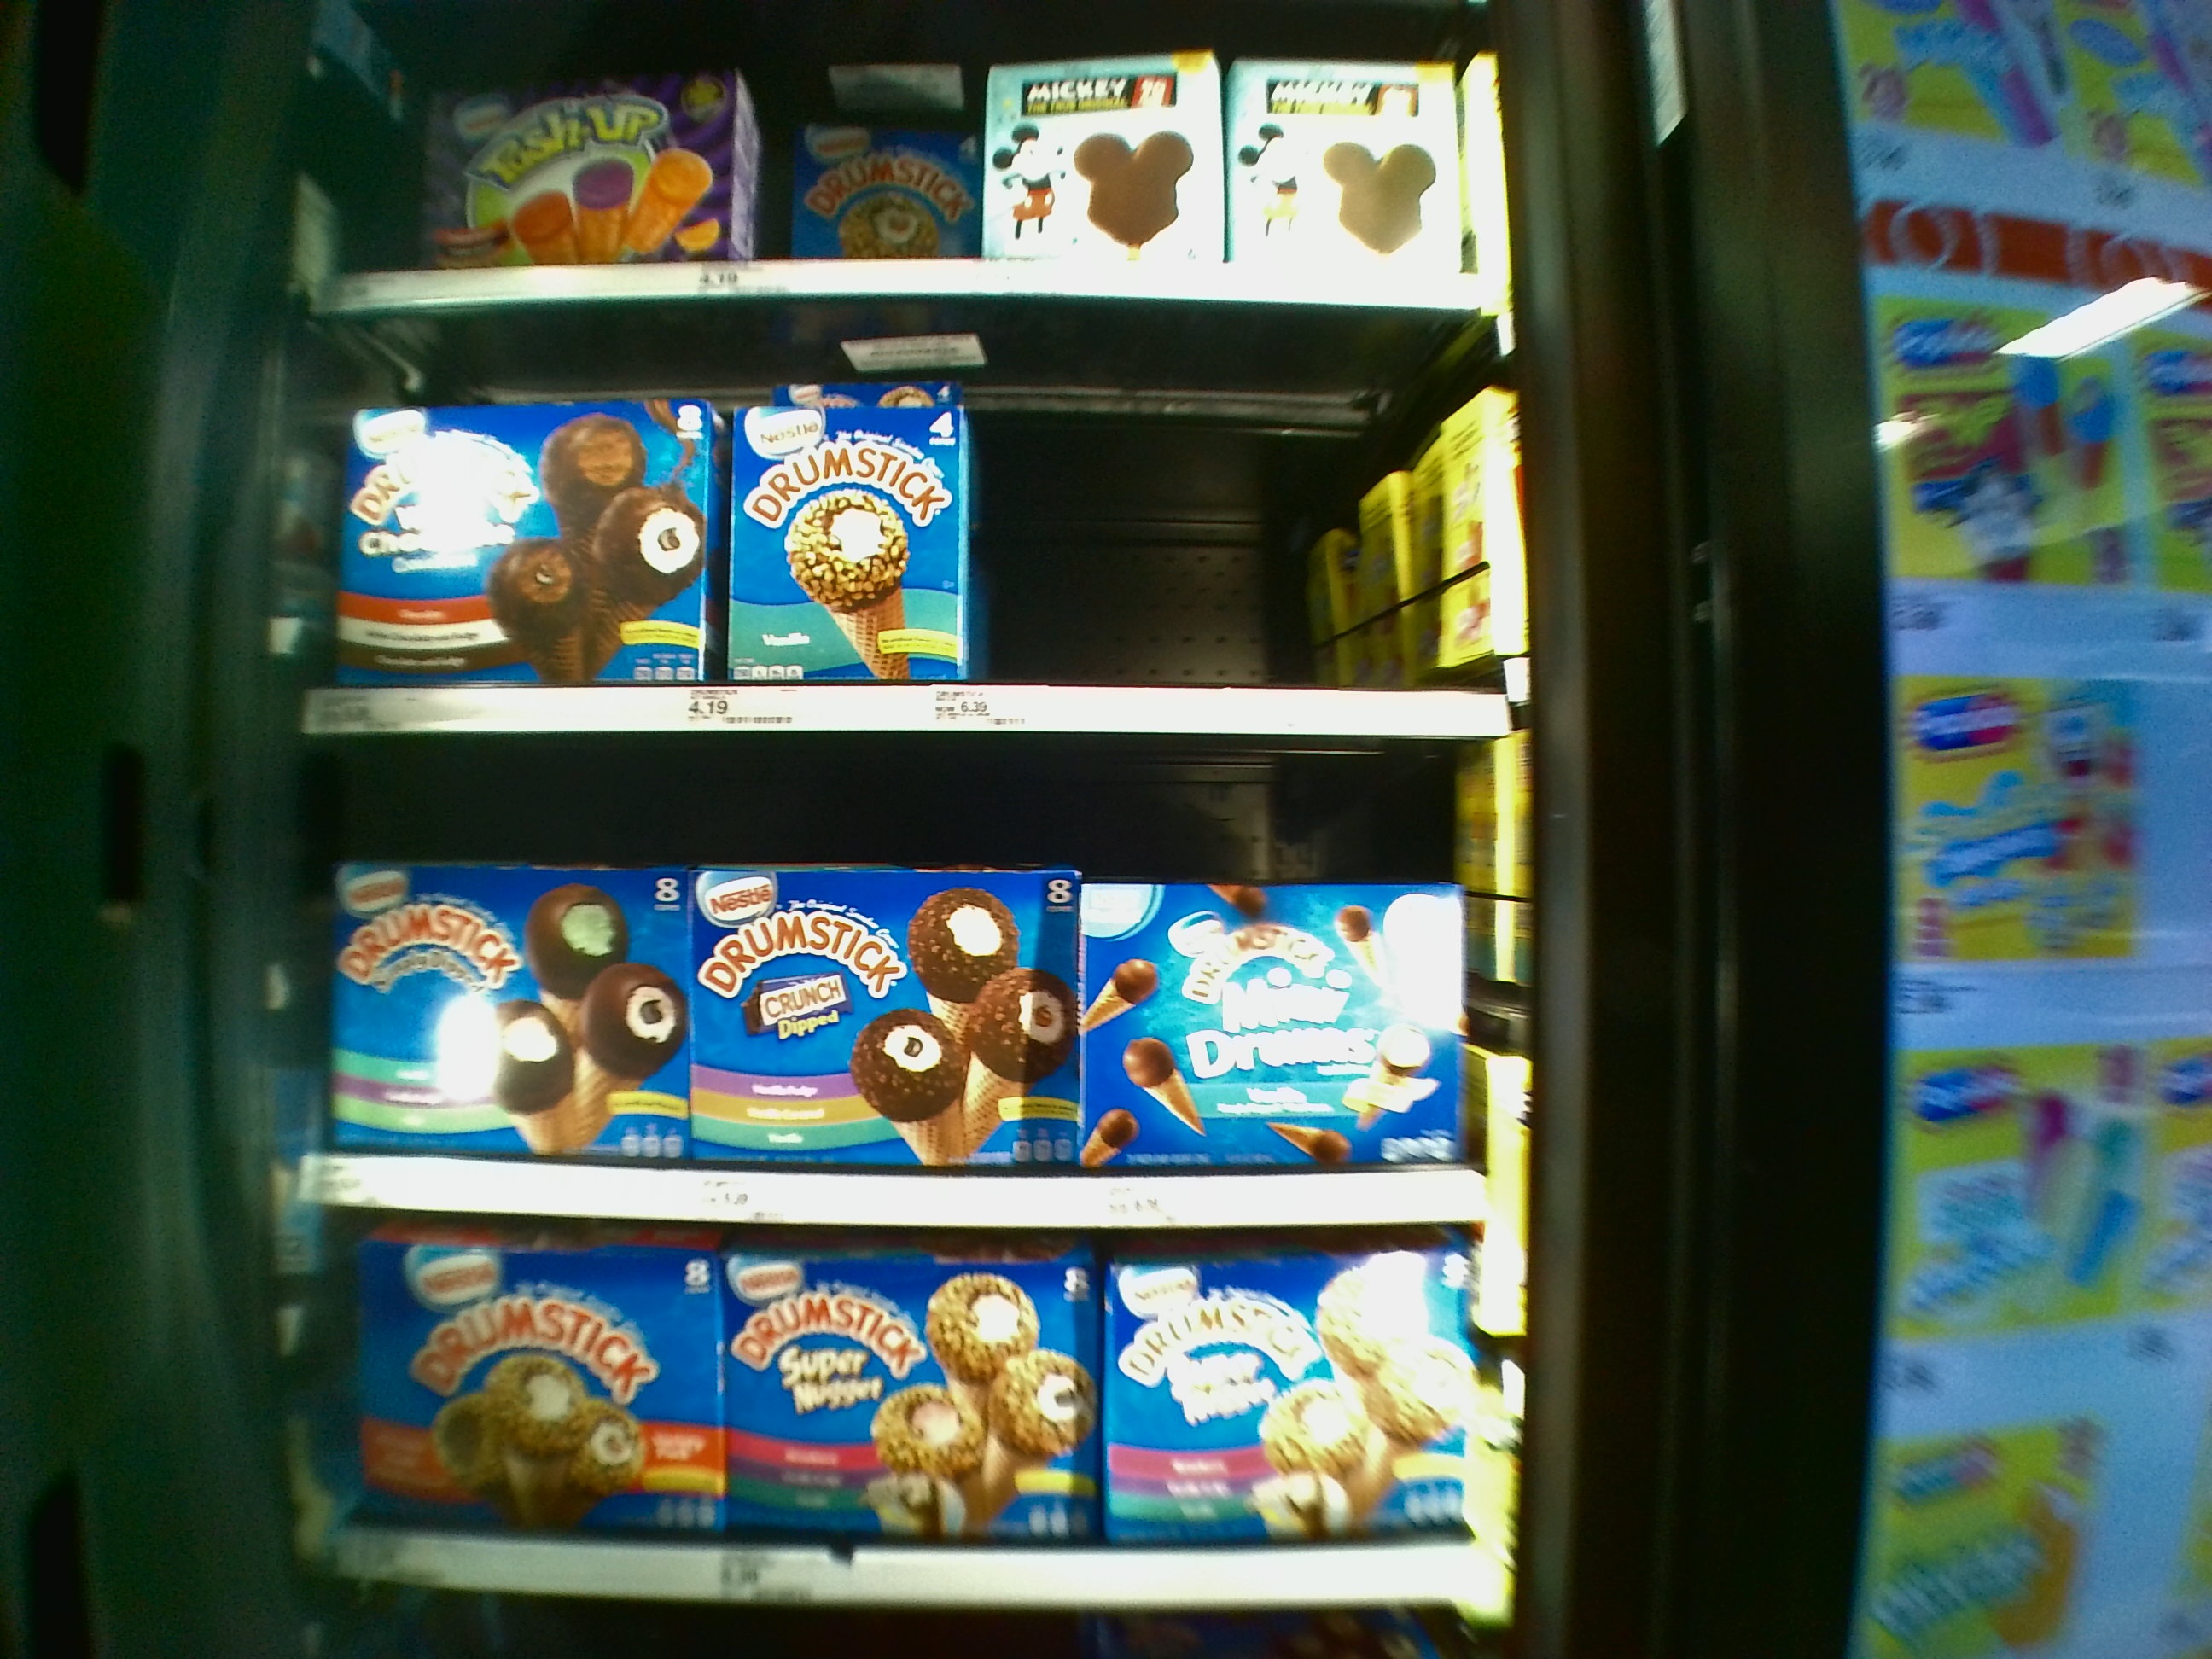shelf: (314, 746, 1465, 1234), (327, 307, 1493, 746), (326, 1234, 1475, 1629), (315, 3, 1496, 315)
